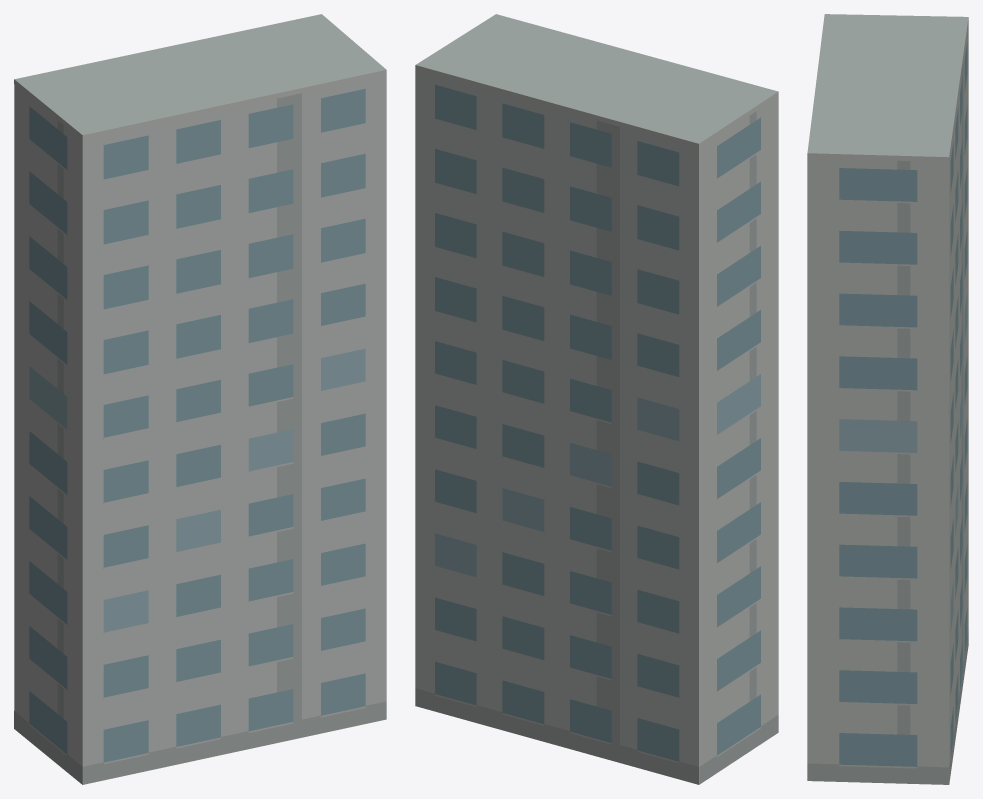
Rendered from survey-upis-32988346.glb.
3 renders of one model, left to right at view 1: azimuth 30°, elevation 25°; view 2: azimuth 150°, elevation 25°; view 3: azimuth 270°, elevation 25°, orthographic. The views are drawn at different scales.
Visible parts, largest first — view 1: survey-upis-32988346.tmp; view 2: survey-upis-32988346.tmp; view 3: survey-upis-32988346.tmp.
Part boxes in pixels (x1=…): survey-upis-32988346.tmp: x1=14, y1=14, x2=386, y2=784; survey-upis-32988346.tmp: x1=415, y1=14, x2=778, y2=784; survey-upis-32988346.tmp: x1=807, y1=14, x2=968, y2=784.
Bounding box in the file's own units: 14.93 × 30.5 × 7.11.
